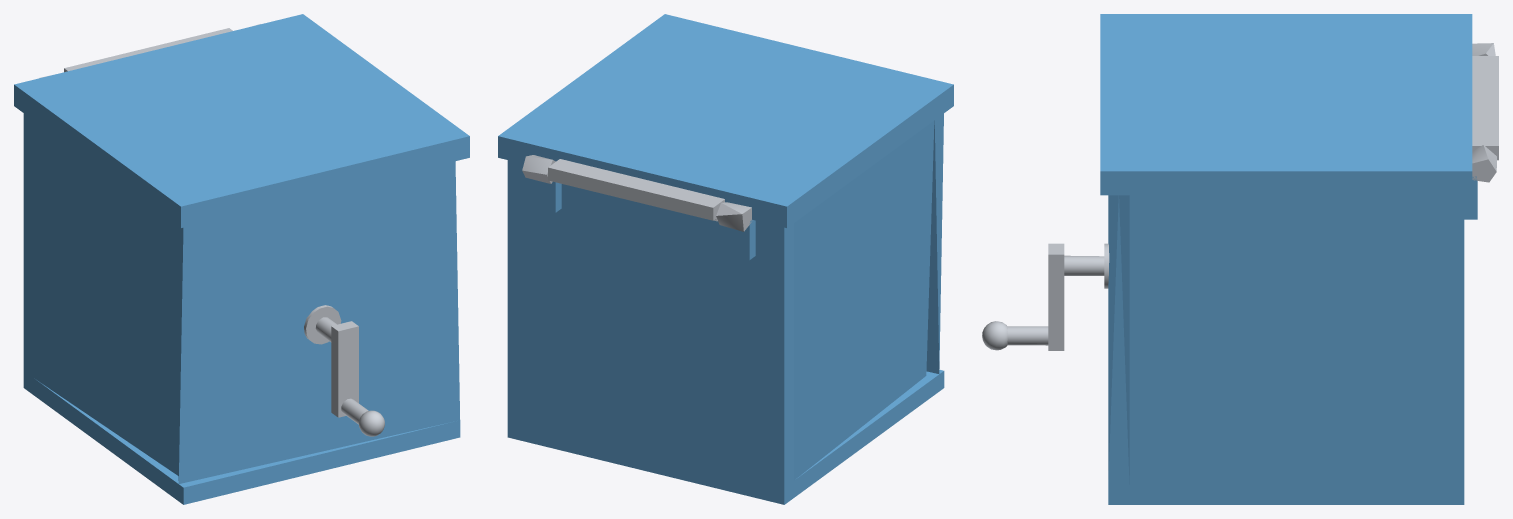
Rendered from jackbox.glb.
3 views of the same model, side by side, from view 1: azimuth 30°, elevation 25°; view 2: azimuth 150°, elevation 25°; view 3: azimuth 270°, elevation 25° (orthographic). The views are drawn at different scales.
Visible parts, largest first — view 1: box, lid, crank; view 2: box, lid; view 3: box, lid, crank.
Part boxes in pixels (bbox=[...]): box: bbox=[23, 24, 460, 504]; lid: bbox=[14, 14, 469, 227]; crank: bbox=[304, 305, 384, 436]; box: bbox=[507, 113, 944, 504]; lid: bbox=[498, 14, 953, 227]; box: bbox=[1108, 43, 1496, 504]; lid: bbox=[1100, 14, 1498, 195]; crank: bbox=[982, 243, 1109, 350].
Size of the model in its own units: 0.14 by 0.14 by 0.1945.
